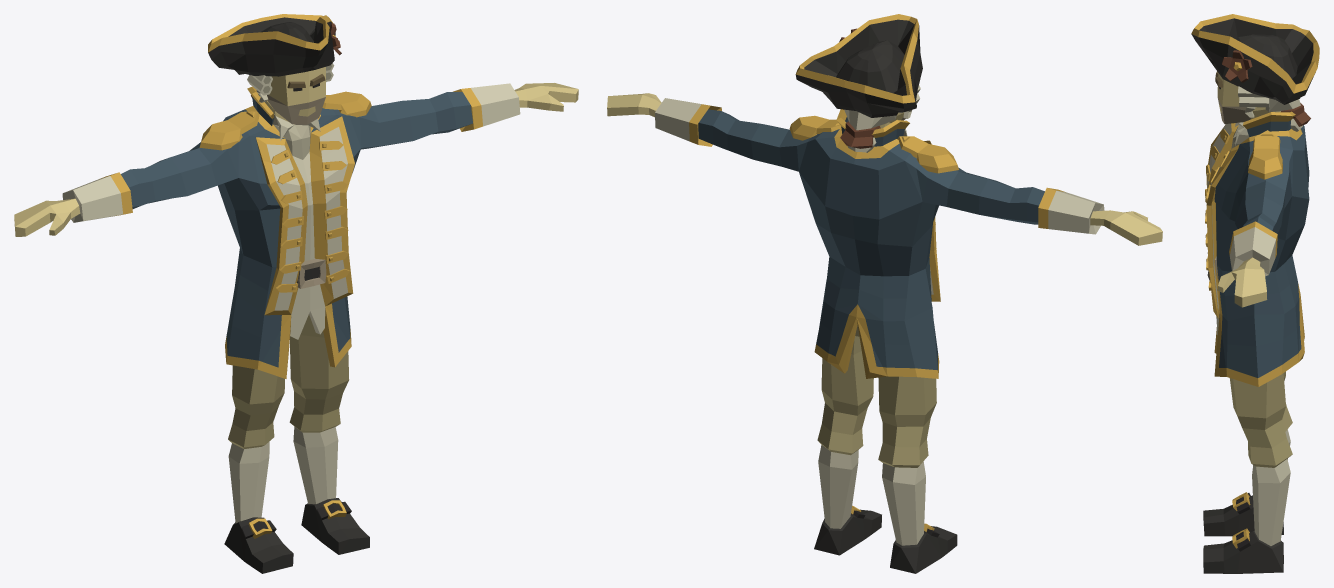
The model's file is CaptainSoldier.fbx.
The picture shows the model from 3 angles, left to right: view 1: azimuth 30°, elevation 25°; view 2: azimuth 150°, elevation 25°; view 3: azimuth 270°, elevation 25°; orthographic projection.
Visible parts, largest first — view 1: CapitanSoldier; view 2: CapitanSoldier; view 3: CapitanSoldier.
Boxes of the visible parts, left/top/right/bottom form: CapitanSoldier: left=14, top=14, right=578, bottom=573; CapitanSoldier: left=607, top=14, right=1162, bottom=573; CapitanSoldier: left=1191, top=14, right=1319, bottom=573.
Bounding box in the file's own units: 205 × 182 × 40.67.
